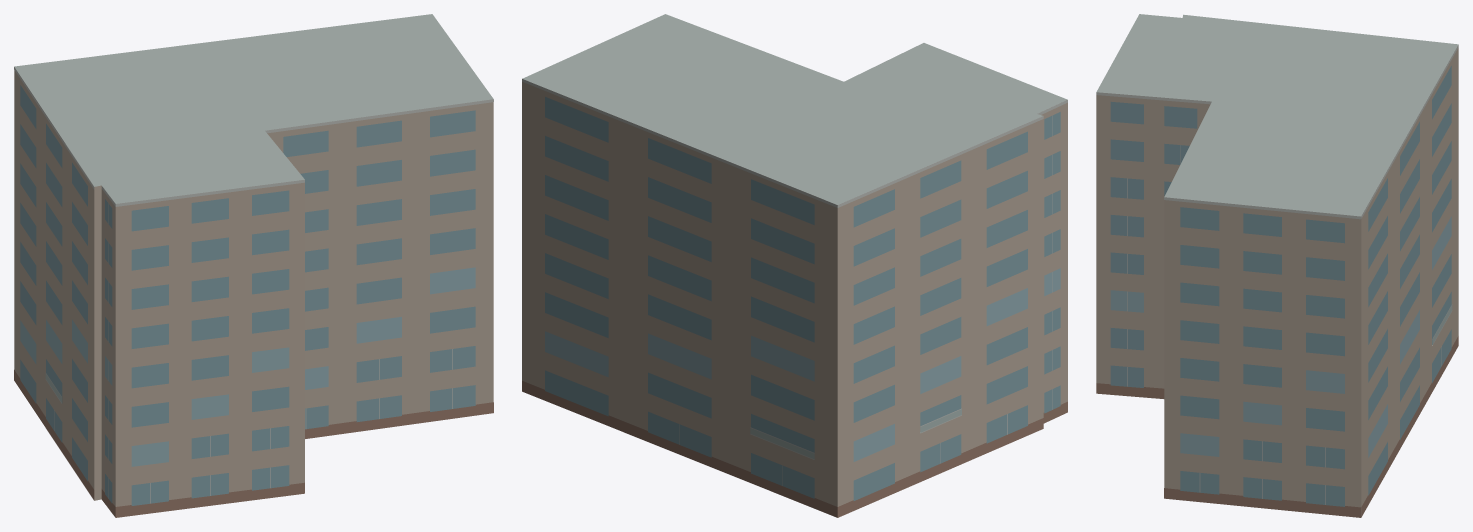
File: survey-upis-32889744.glb
3 renders of one model, left to right at view 1: azimuth 30°, elevation 25°; view 2: azimuth 150°, elevation 25°; view 3: azimuth 270°, elevation 25°, orthographic. The views are drawn at different scales.
Visible parts, largest first — view 1: survey-upis-32889744.tmp; view 2: survey-upis-32889744.tmp; view 3: survey-upis-32889744.tmp.
Part boxes in pixels (box(x1,y1,x2,y2)): survey-upis-32889744.tmp: box(14, 14, 493, 517); survey-upis-32889744.tmp: box(522, 14, 1067, 517); survey-upis-32889744.tmp: box(1096, 14, 1458, 517).
Size of the model in its own units: 37.62 by 26.1 by 28.45.
